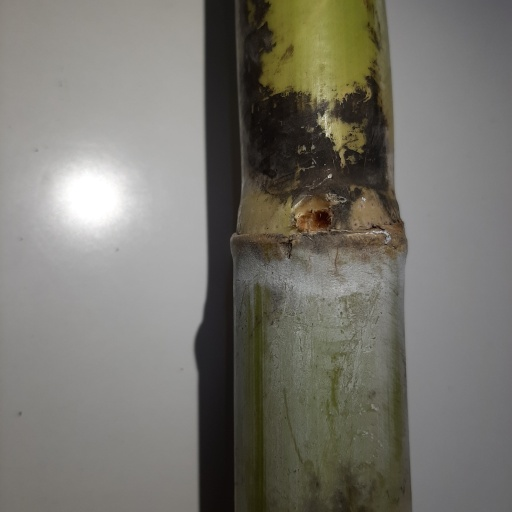Damage_Bud: (294, 195, 332, 235)
